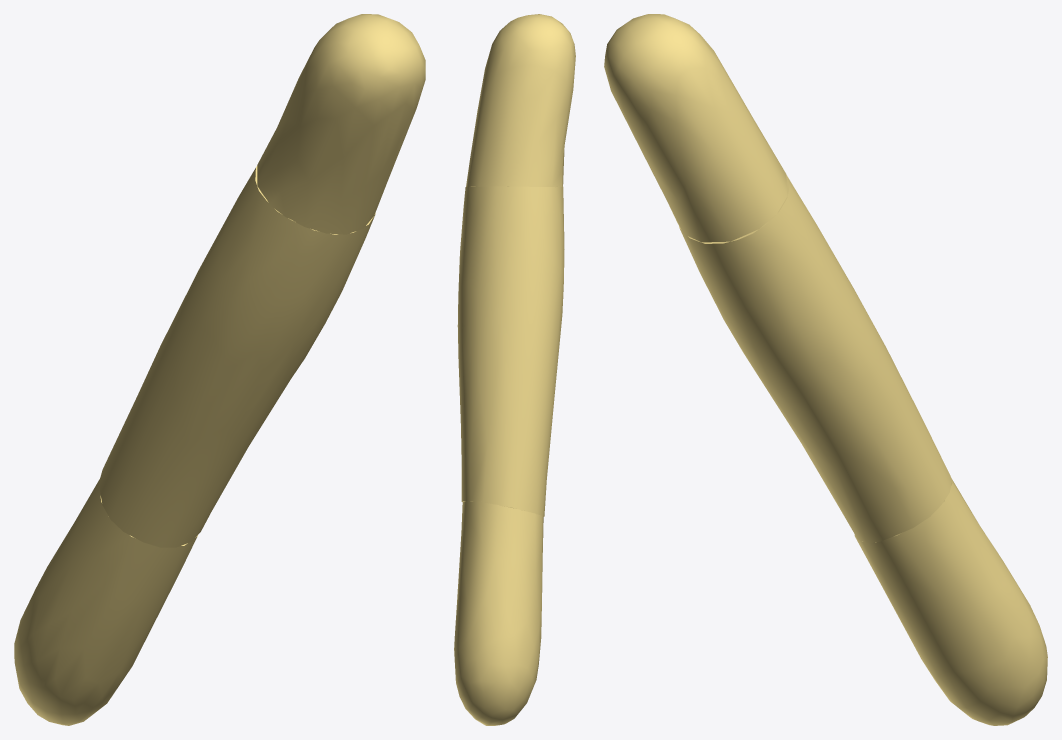
The model's file is fma54590_mm3500.glb.
3 views of the same model, side by side, from view 1: azimuth 30°, elevation 25°; view 2: azimuth 150°, elevation 25°; view 3: azimuth 270°, elevation 25° (orthographic). The views are drawn at different scales.
Visible parts, largest first — view 1: FMA54590_MM3500; view 2: FMA54590_MM3500; view 3: FMA54590_MM3500.
Part boxes in pixels (x1=…): FMA54590_MM3500: x1=14, y1=14, x2=425, y2=725; FMA54590_MM3500: x1=454, y1=14, x2=575, y2=725; FMA54590_MM3500: x1=604, y1=14, x2=1047, y2=725.
Bounding box in the file's own units: 0.00324 × 0.0111 × 0.00588.
